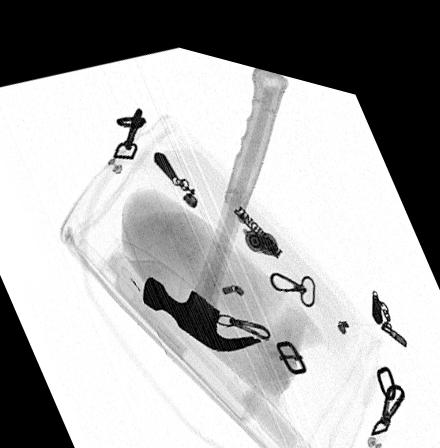Hammer: (142, 53, 289, 340)
